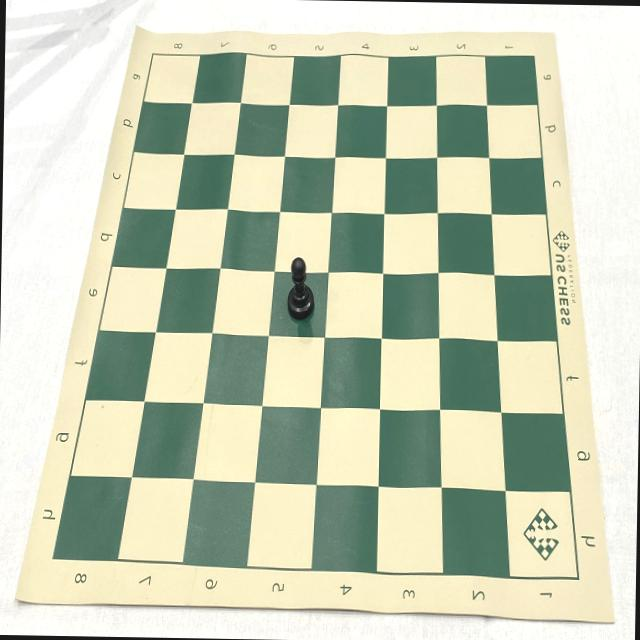black-pawn: (285, 256, 315, 321)
